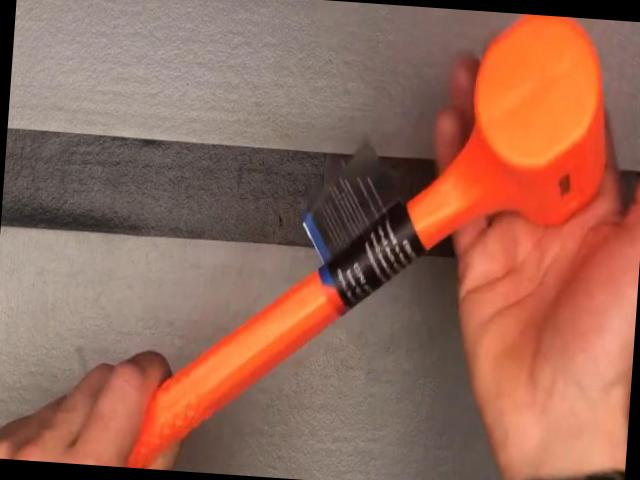hammer: (75, 0, 617, 480)
